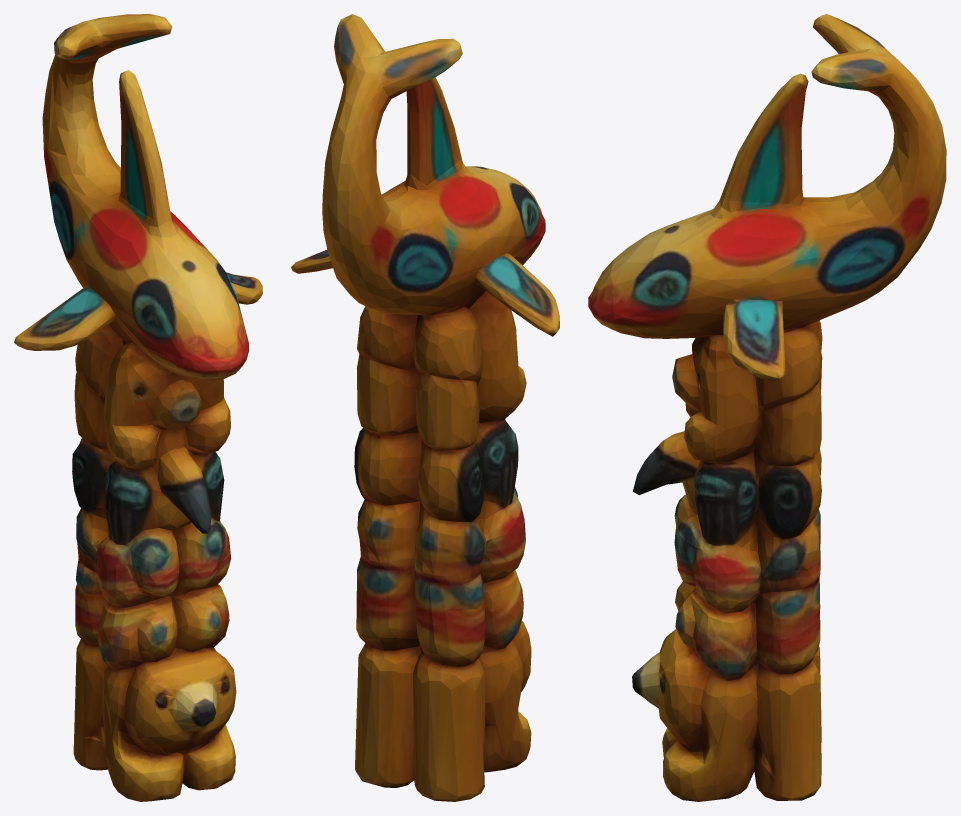
Rendered from pole_orca.glb.
3 views of the same model, side by side, from view 1: azimuth 30°, elevation 25°; view 2: azimuth 150°, elevation 25°; view 3: azimuth 270°, elevation 25° (orthographic). The views are drawn at different scales.
Visible parts, largest first — view 1: geometry_0; view 2: geometry_0; view 3: geometry_0.
Part boxes in pixels (x1,y1,x2,y2): geometry_0: (14,14,262,801); geometry_0: (291,14,559,801); geometry_0: (588,14,946,801).
Bounding box in the file's own units: 0.3609 × 0.9989 × 0.4398.
Materials: 1 (1 with a texture image).
